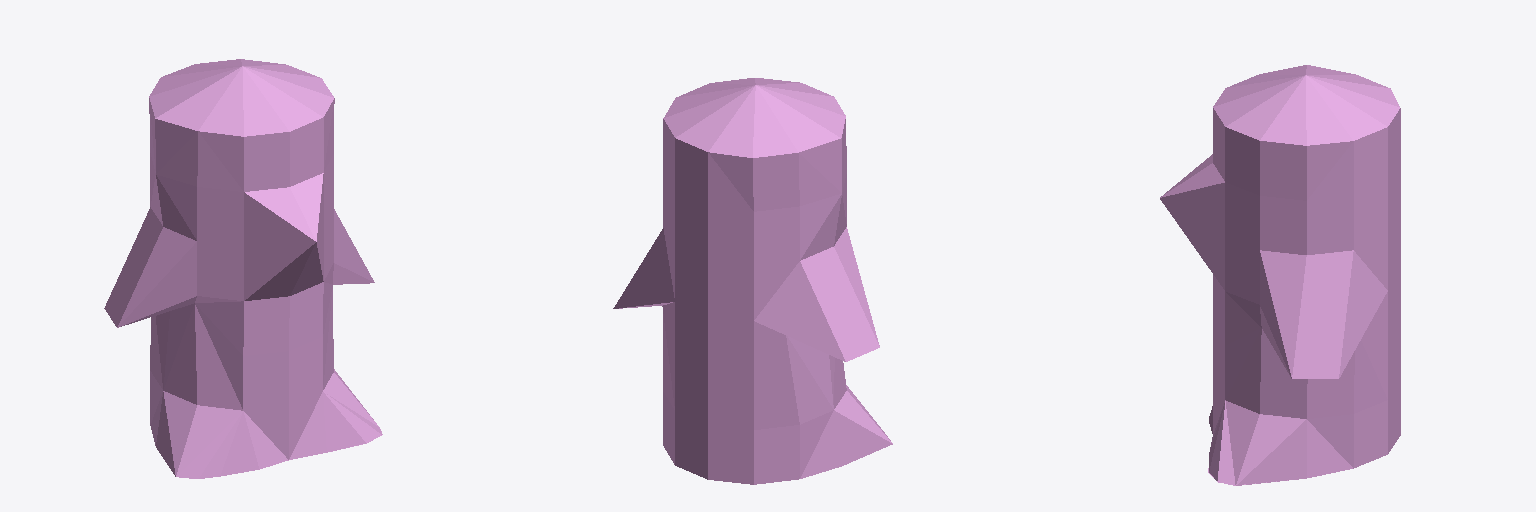
The model's file is penguin.obj.
3 renders of one model, left to right at view 1: azimuth 30°, elevation 25°; view 2: azimuth 150°, elevation 25°; view 3: azimuth 270°, elevation 25°, orthographic.
Visible parts, largest first — view 1: Cylinder01; view 2: Cylinder01; view 3: Cylinder01.
Part boxes in pixels (left/top/right/bottom): Cylinder01: left=104, top=59, right=382, bottom=478; Cylinder01: left=613, top=78, right=892, bottom=484; Cylinder01: left=1160, top=65, right=1400, bottom=485.
Size of the model in its own units: 1.11 by 1.53 by 0.9277.